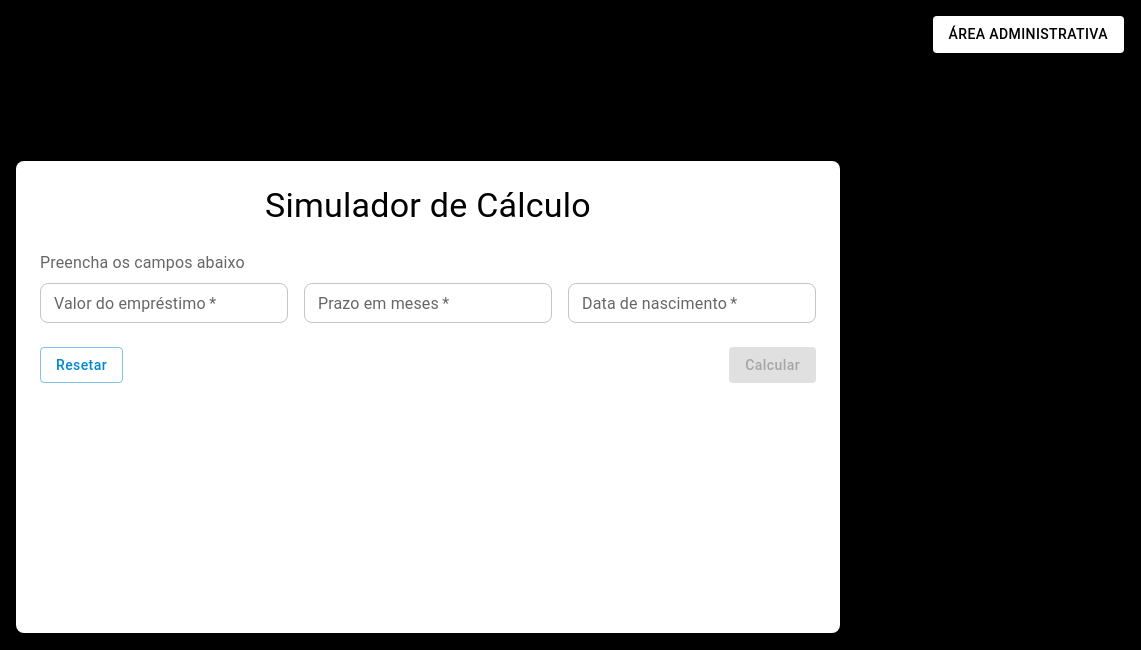
it: Simulador de Cálculo › botão 'Calcular' está habilitado quando todos os campos são preenchidos corretamente
This screenshot has width=1141, height=650.
In the field labelled "Valor do empréstimo *": point(164, 303) [40, 283, 288, 323], type "1000"
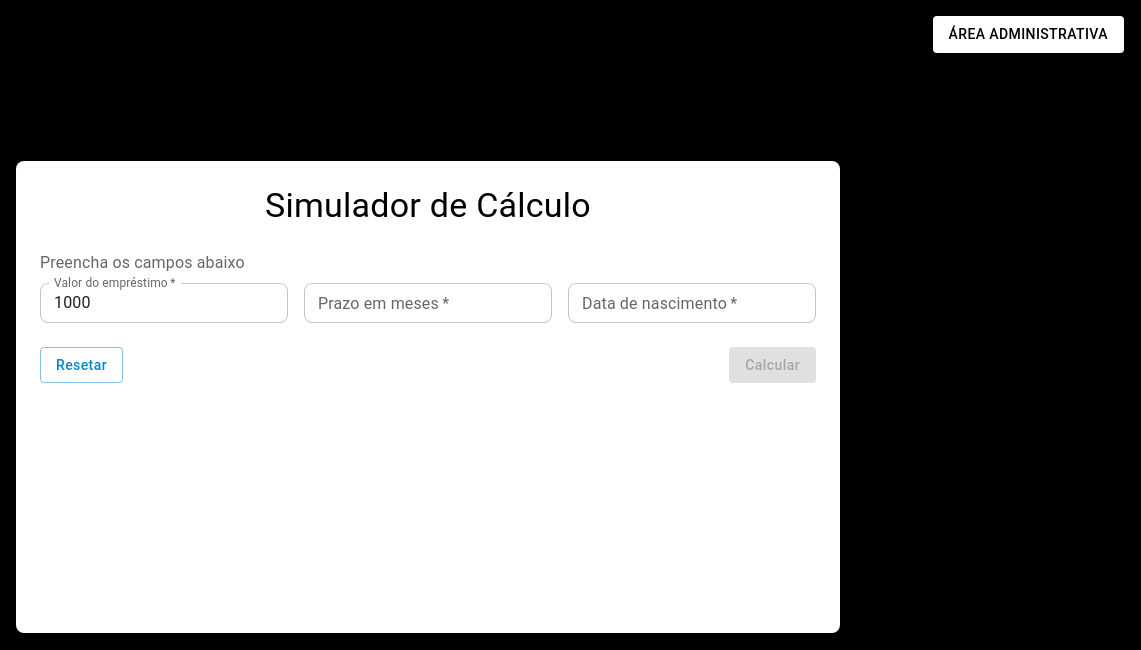
In the field labelled "Prazo em meses *": point(428, 303) [304, 283, 552, 323], type "12"
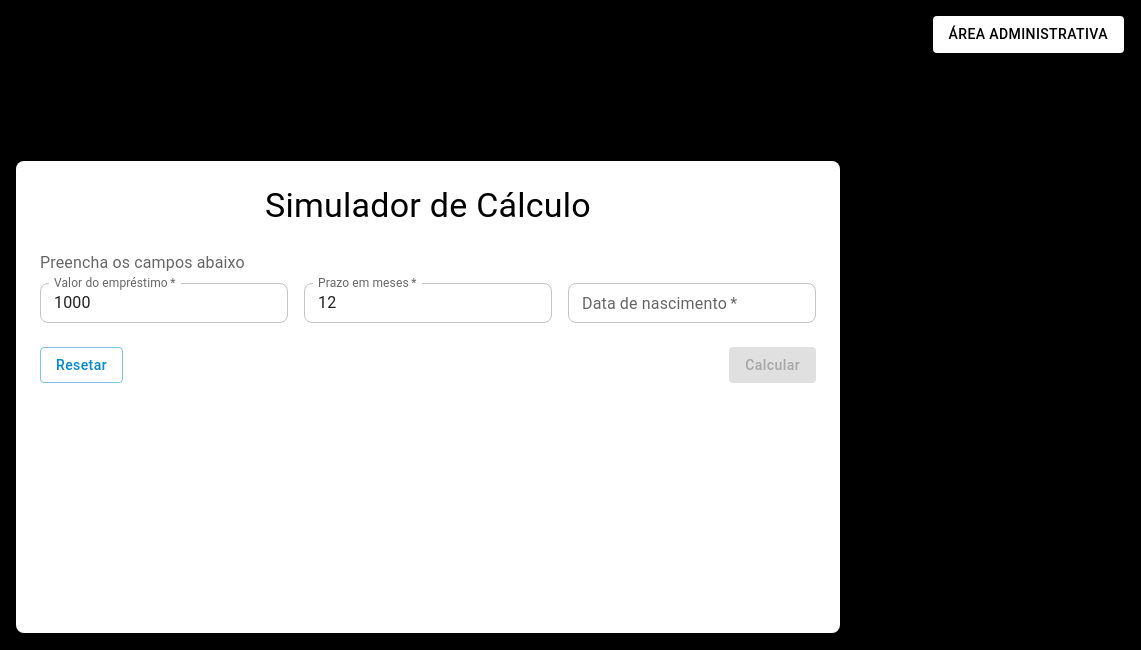
In the field labelled "Data de nascimento *": point(692, 303) [568, 283, 816, 323], type "01/01/2000"
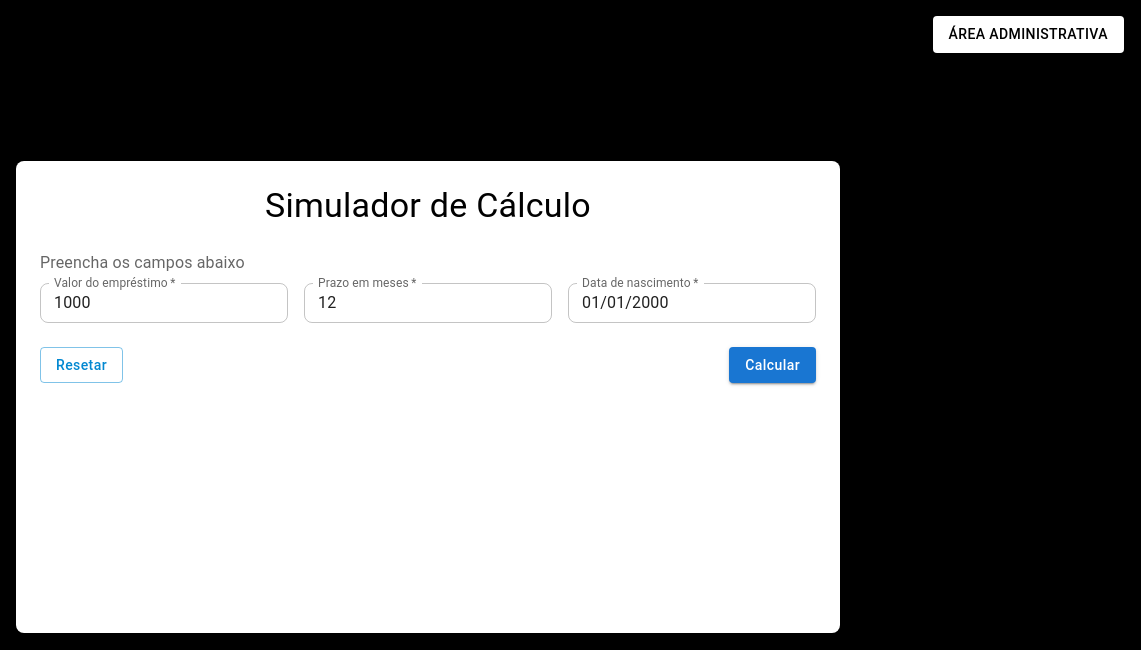
Expected: the button "Calcular" is enabled, [729, 347, 816, 384]
